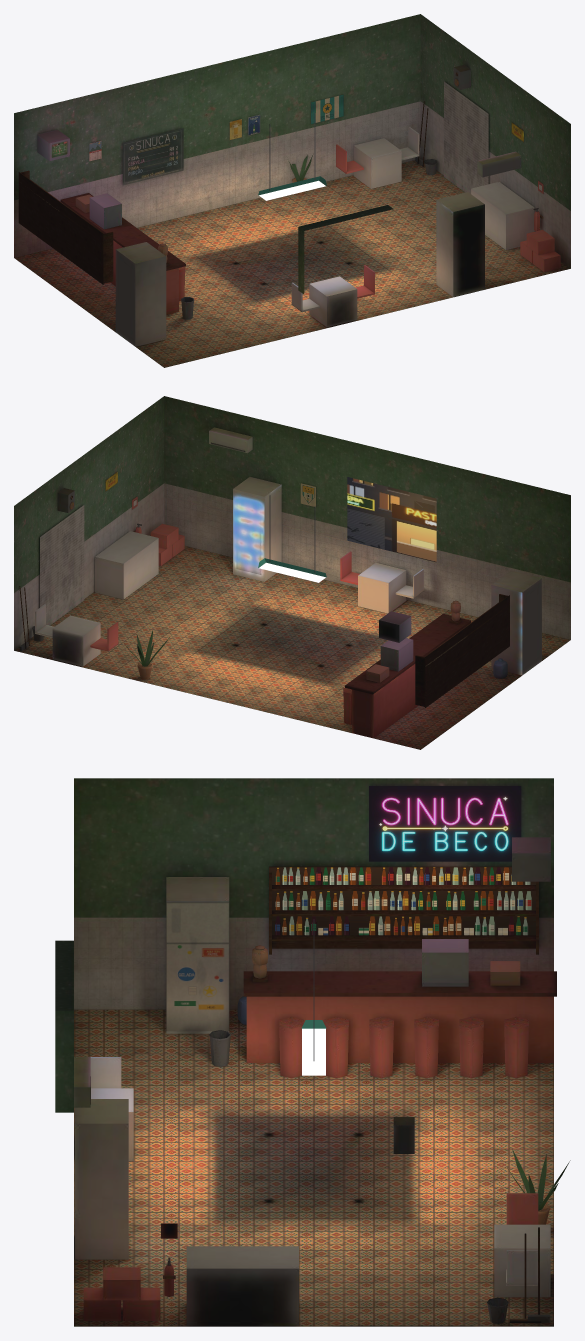
The model's file is boteco-baixo.glb.
The picture shows the model from 3 angles, top to bottom: view 1: azimuth 30°, elevation 25°; view 2: azimuth 150°, elevation 25°; view 3: azimuth 270°, elevation 25°; orthographic projection. The views are drawn at different scales.
Visible parts, largest first — view 1: boteco, luminaria; view 2: boteco, janela-rua, luminaria; view 3: boteco, letreiro-neon, luminaria.
Boxes of the visible parts, x1,y1,x2,y2 form: boteco: (14, 14, 570, 367); luminaria: (258, 113, 326, 200); boteco: (14, 396, 570, 749); janela-rua: (347, 477, 436, 562); luminaria: (258, 495, 326, 582); boteco: (55, 778, 570, 1326); letreiro-neon: (369, 786, 521, 861); luminaria: (301, 919, 326, 1075).
Size of the model in its own units: 10 by 3.4 by 7.43.
10 materials, 7 textured.
